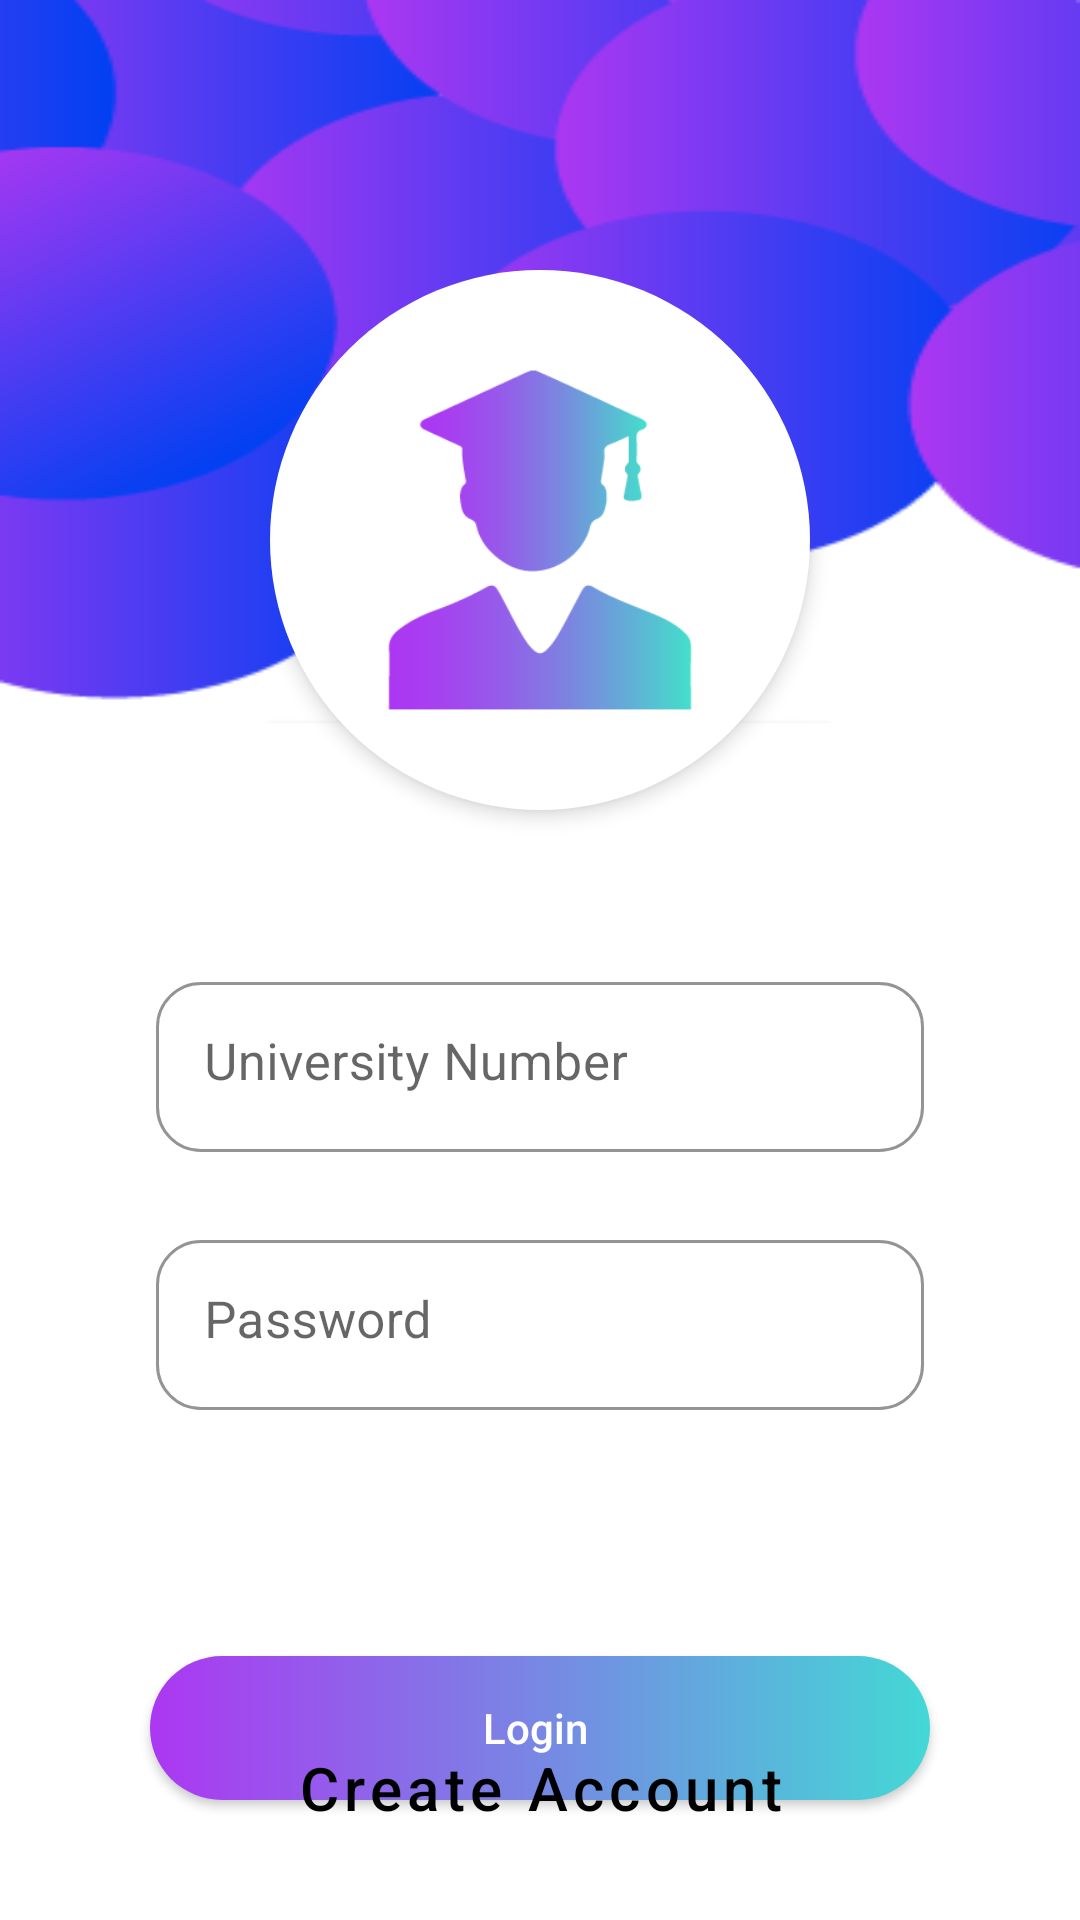

Point at icon controls on the screen. Image size 1080×1920, points as (x=x, y=y).
student: (x=540, y=540)
